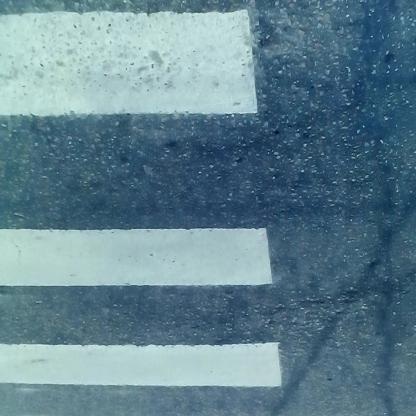crosswalk: (1, 2, 297, 401)
